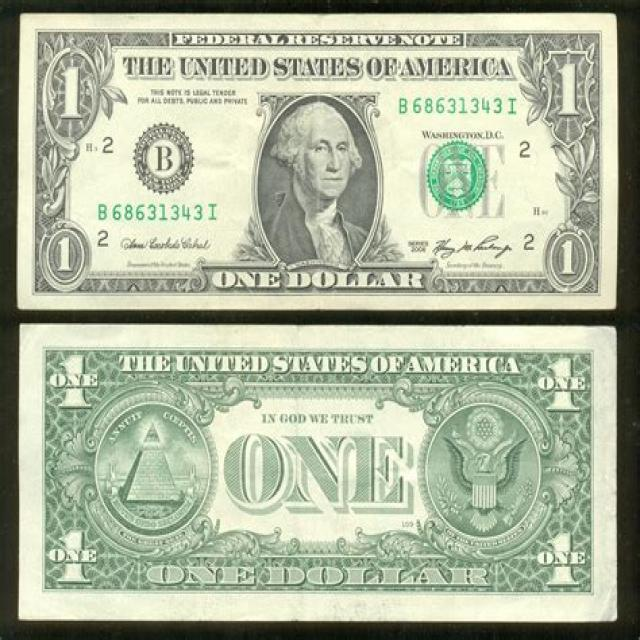One: (17, 14, 616, 312), (20, 324, 618, 622)
